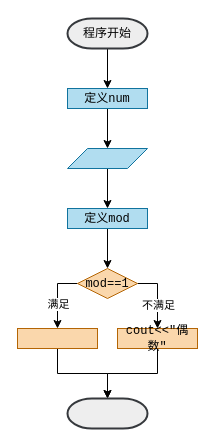
Image size: 215x446. Some labels were removed from this diagram. Here are the shapes that lost their labels. From the top down, the box of each, then its label:
(66, 148, 148, 168): 输入num
(16, 328, 98, 348): cout<<"奇数"
(66, 397, 148, 429): 程序结束
